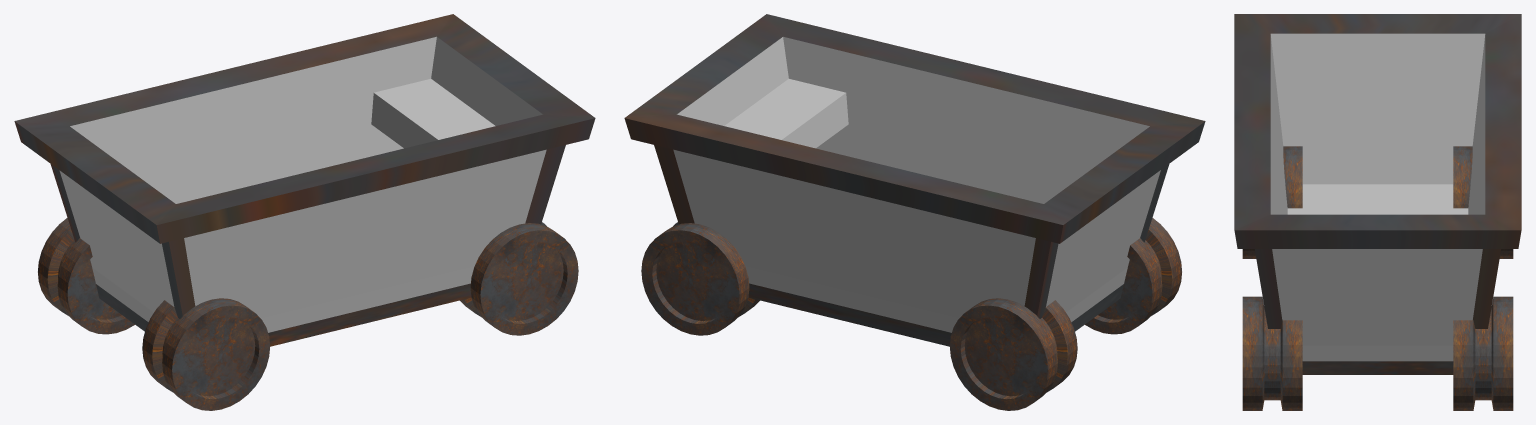
File: MineCart.fbx
3 renders of one model, left to right at view 1: azimuth 30°, elevation 25°; view 2: azimuth 150°, elevation 25°; view 3: azimuth 270°, elevation 25°, orthographic.
Visible parts, largest first — view 1: Cube, Cylinder.001, Cylinder.003, Cylinder; view 2: Cube, Cylinder, Cylinder.002, Cylinder.001; view 3: Cube, Cylinder.002, Cylinder.003, Cylinder, Cylinder.001.
Boxes of the visible parts, x1,y1,x2,y2 form: Cube: (14,14,595,346); Cylinder.001: (142,298,270,410); Cylinder.003: (460,222,578,335); Cylinder: (38,218,134,334); Cube: (624,14,1205,346); Cylinder: (949,298,1077,410); Cylinder.002: (641,222,759,335); Cylinder.001: (1085,218,1181,334); Cube: (1234,14,1521,374); Cylinder.002: (1453,296,1513,410); Cylinder.003: (1242,296,1302,410); Cylinder: (1453,146,1513,258); Cylinder.001: (1242,146,1302,258).
Size of the model in its own units: 531 by 420 by 946.
